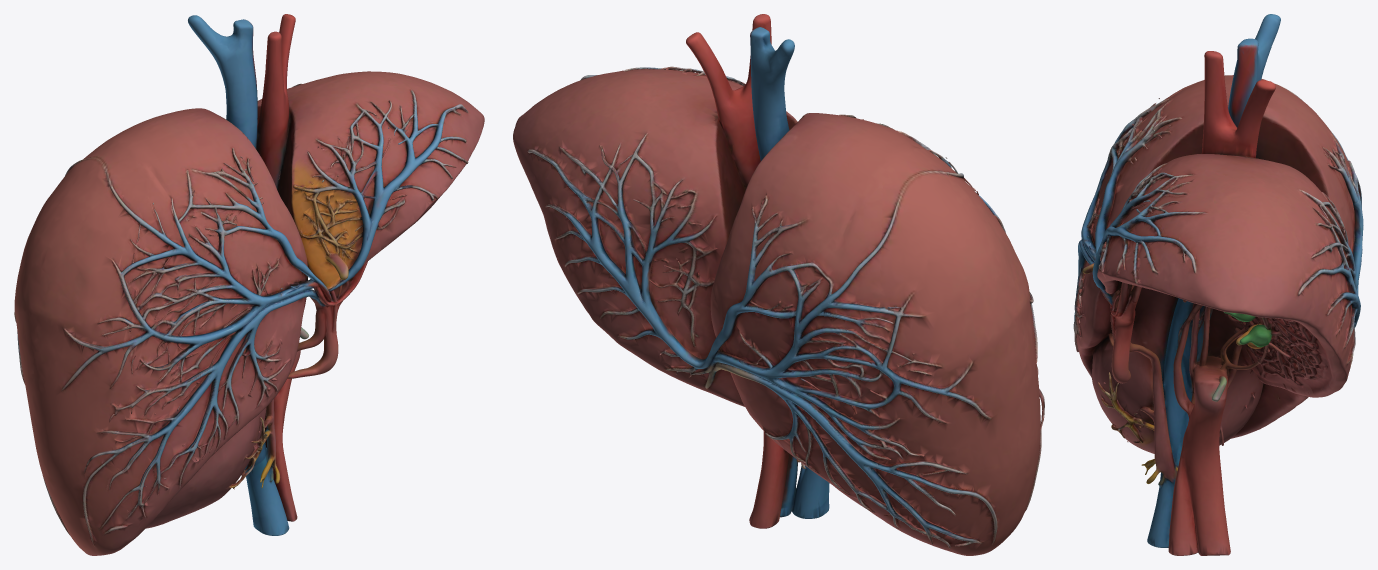
The model's file is liver.glb.
3 renders of one model, left to right at view 1: azimuth 30°, elevation 25°; view 2: azimuth 150°, elevation 25°; view 3: azimuth 270°, elevation 25°, orthographic. The views are drawn at different scales.
Parts seen in each view (by area): view 1: tripo_node_1c7e641c-603f-41bd-b81d-f90f99063845; view 2: tripo_node_1c7e641c-603f-41bd-b81d-f90f99063845; view 3: tripo_node_1c7e641c-603f-41bd-b81d-f90f99063845.
Boxes of the visible parts, x1,y1,x2,y2 form: tripo_node_1c7e641c-603f-41bd-b81d-f90f99063845: [14, 14, 484, 555]; tripo_node_1c7e641c-603f-41bd-b81d-f90f99063845: [513, 14, 1044, 555]; tripo_node_1c7e641c-603f-41bd-b81d-f90f99063845: [1073, 14, 1363, 555].
Bounding box in the file's own units: 0.9932 × 0.9999 × 0.5123.
1 material, 1 textured.
